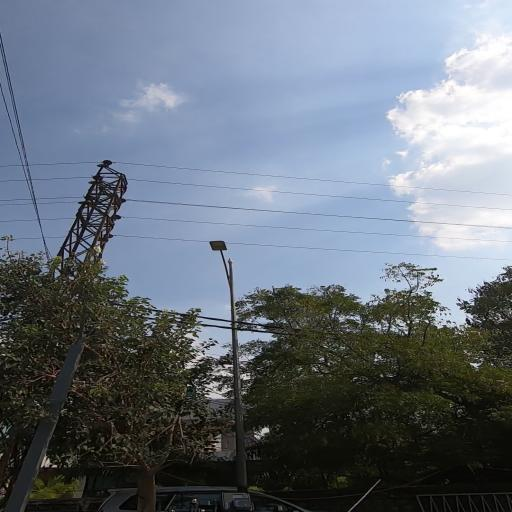Street_light: (204, 237, 238, 285)
